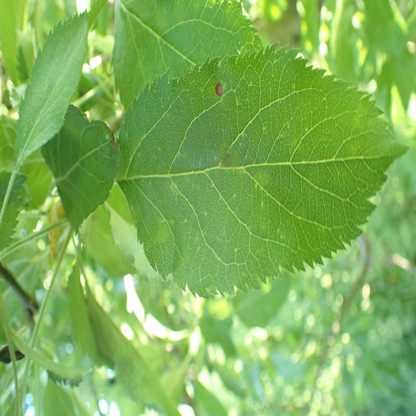frogeye_leaf_spot: (215, 84, 223, 97)
